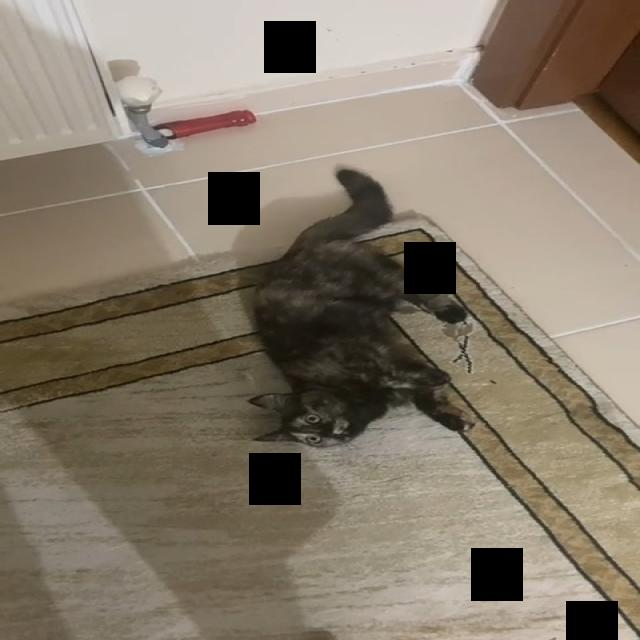authorized: (244, 165, 475, 448)
